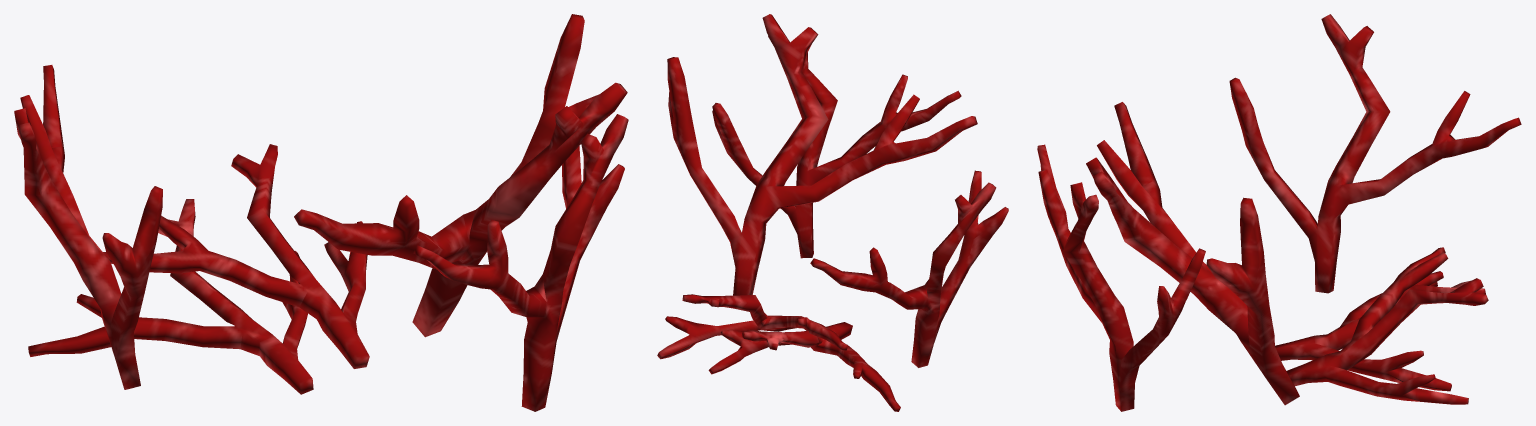
Rendered from corals.fbx.
The picture shows the model from 3 angles, left to right: view 1: azimuth 30°, elevation 25°; view 2: azimuth 150°, elevation 25°; view 3: azimuth 270°, elevation 25°; orthographic projection. The views are drawn at different scales.
Parts seen in each view (by area): view 1: corals.001, corals.004, corals.005, corals.003, corals.002; view 2: corals.001, corals.005, corals.004, corals.003, corals.002; view 3: corals.001, corals.005, corals.004, corals.003, corals.002.
Part boxes in pixels (left/top/right/bottom): corals.001: left=294, top=14, right=627, bottom=337; corals.004: left=413, top=114, right=628, bottom=411; corals.005: left=14, top=65, right=162, bottom=389; corals.003: left=103, top=144, right=369, bottom=368; corals.002: left=28, top=199, right=313, bottom=394; corals.001: left=667, top=14, right=977, bottom=295; corals.005: left=810, top=170, right=1008, bottom=367; corals.004: left=712, top=36, right=961, bottom=258; corals.003: left=657, top=294, right=847, bottom=359; corals.002: left=708, top=322, right=900, bottom=411; corals.001: left=1086, top=102, right=1299, bottom=405; corals.005: left=1229, top=14, right=1521, bottom=293; corals.004: left=1037, top=144, right=1205, bottom=411; corals.003: left=1286, top=247, right=1488, bottom=404; corals.002: left=1275, top=271, right=1485, bottom=391.
Bounding box in the file's own units: 17.06 × 10.14 × 16.19.
